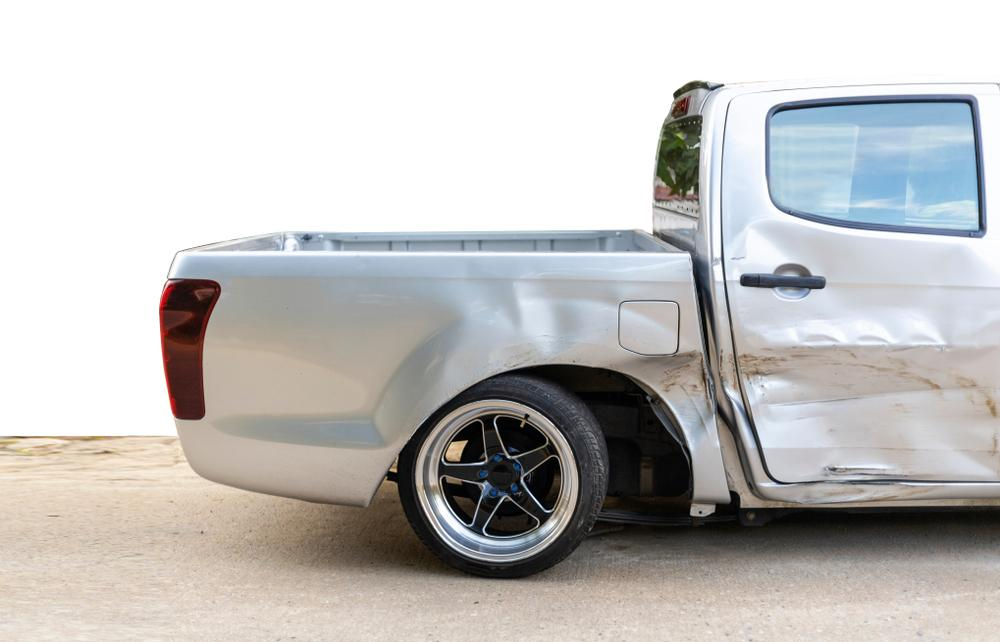dent: (720, 218, 996, 486), (441, 264, 711, 453)
